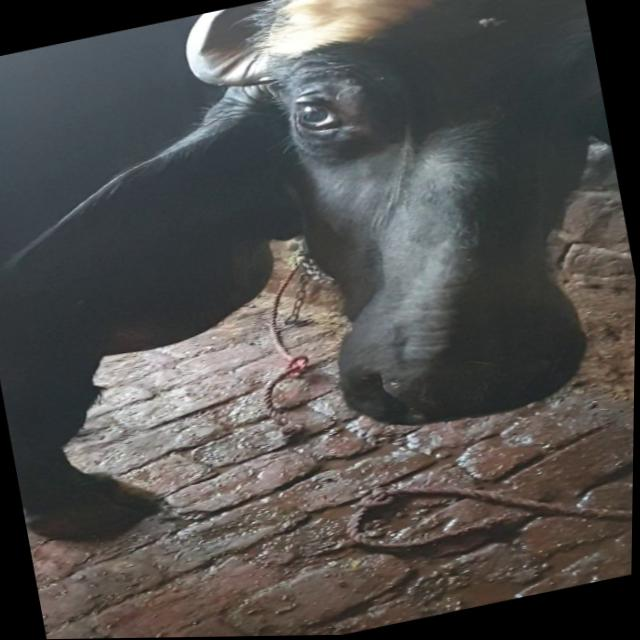cowFace: (194, 0, 640, 441)
